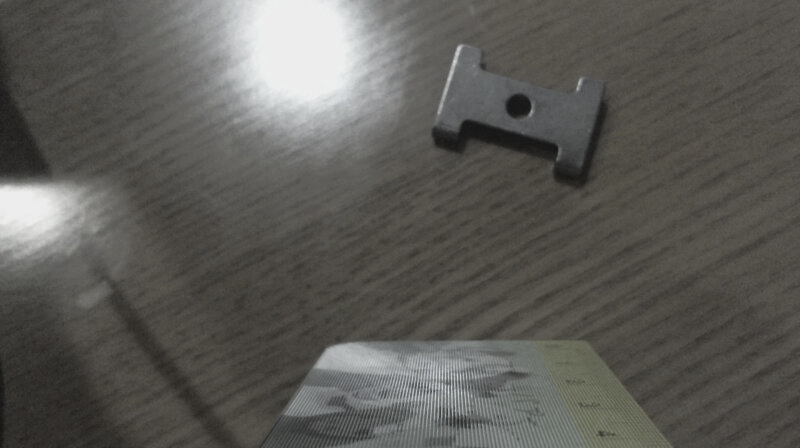O002: (430, 42, 611, 187)
